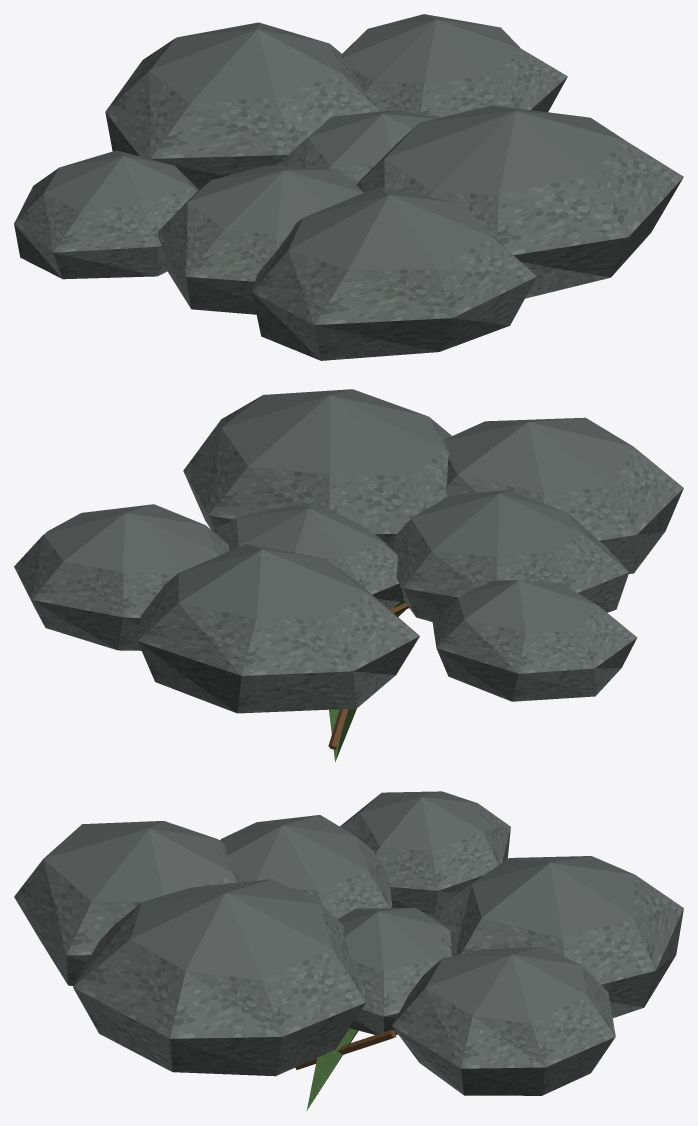
Rendered from pr-010_stone_pile__medium.obj.
3 views of the same model, one above another, from view 1: azimuth 30°, elevation 25°; view 2: azimuth 150°, elevation 25°; view 3: azimuth 270°, elevation 25° (orthographic). The views are drawn at different scales.
Visible parts, largest first — view 1: pr-010_stone_pile__medium; view 2: pr-010_stone_pile__medium; view 3: pr-010_stone_pile__medium.
Boxes of the visible parts, left/top/right/bottom form: pr-010_stone_pile__medium: left=14, top=14, right=683, bottom=360; pr-010_stone_pile__medium: left=14, top=389, right=683, bottom=762; pr-010_stone_pile__medium: left=14, top=791, right=683, bottom=1110.
Bounding box in the file's own units: 0.9492 × 0.3198 × 0.9943.
4 materials, 4 textured.
